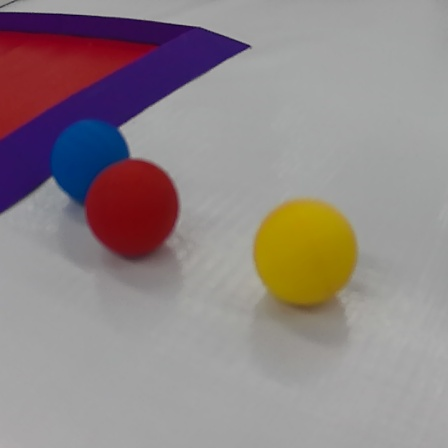blue: (42, 116, 134, 202)
red: (83, 157, 184, 258)
red_aim: (0, 7, 257, 219)
yellow: (254, 194, 360, 313)
